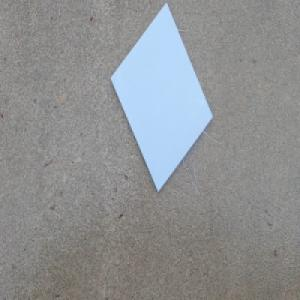PaintChip: (110, 2, 214, 192)
